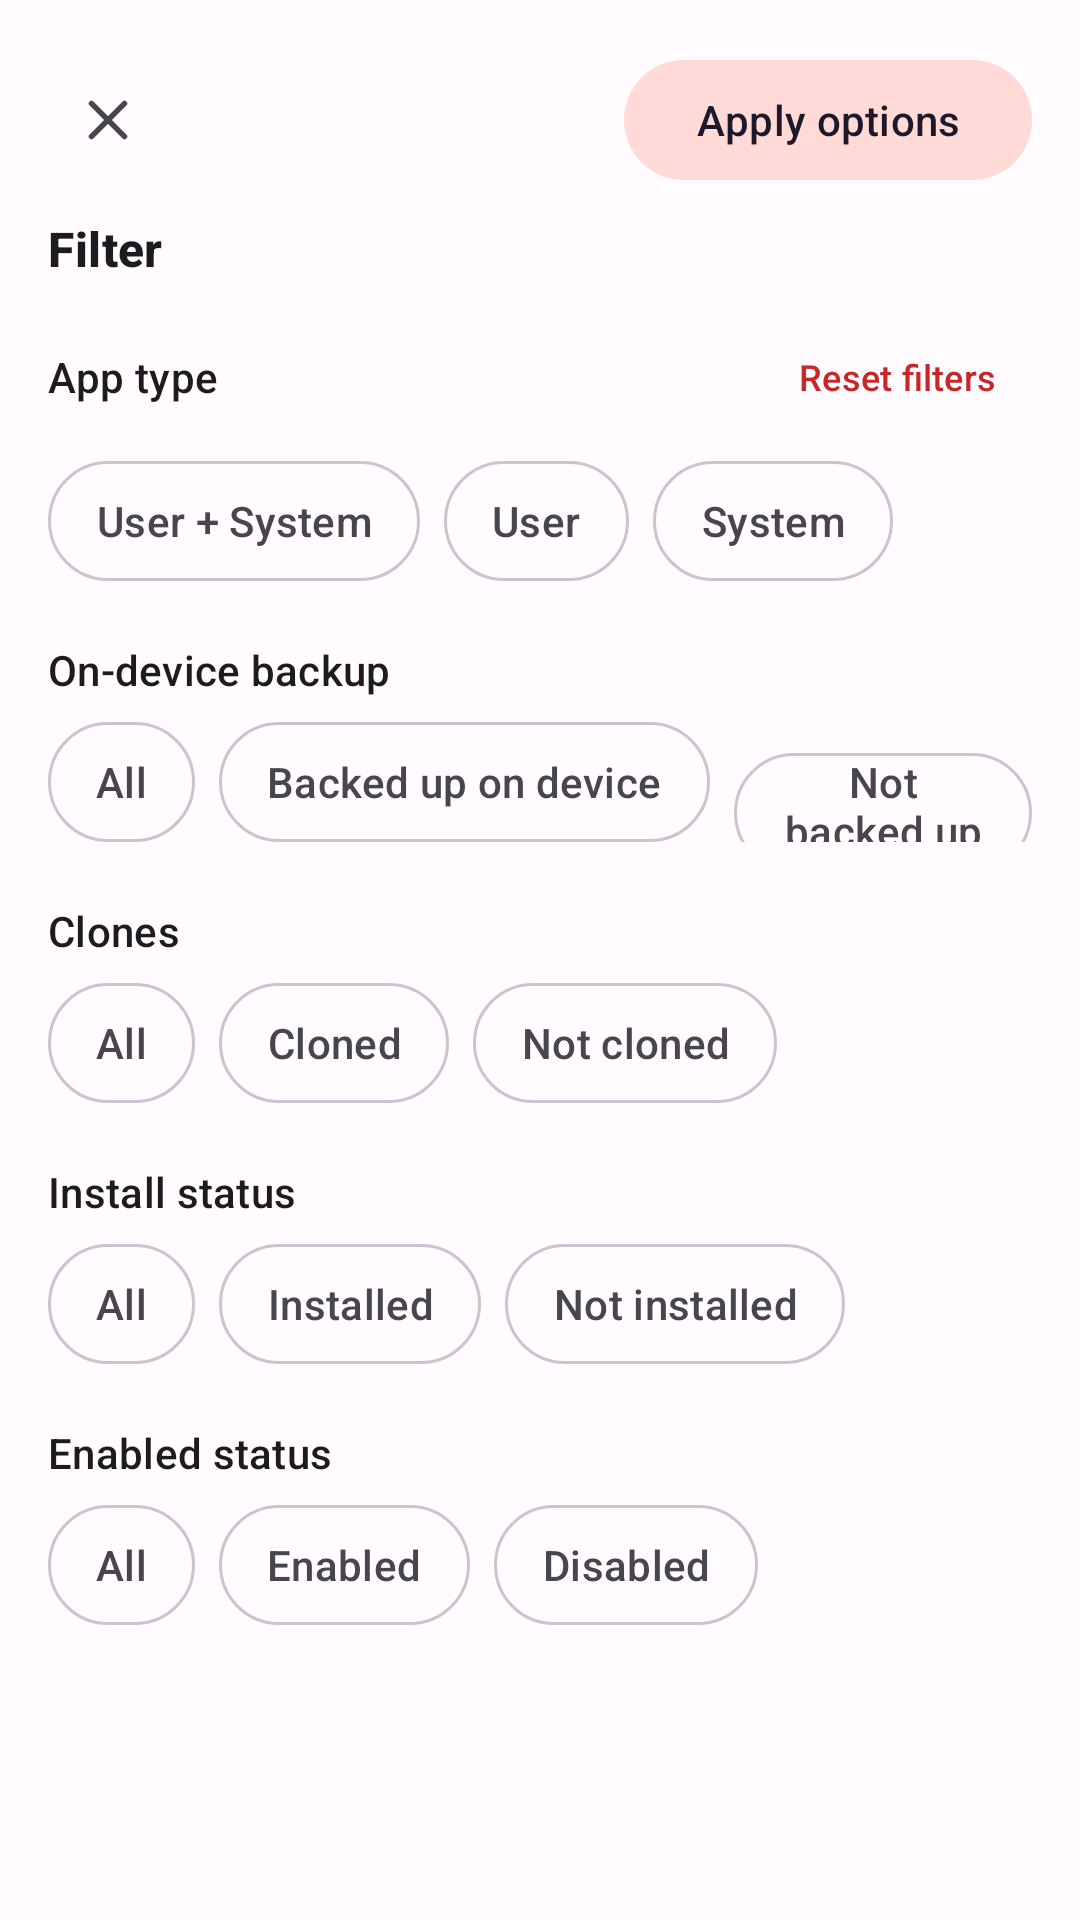

Named icons in this screenshot (1080×1920) and their centers, (x=x, y=y):
close: (x=108, y=120)
